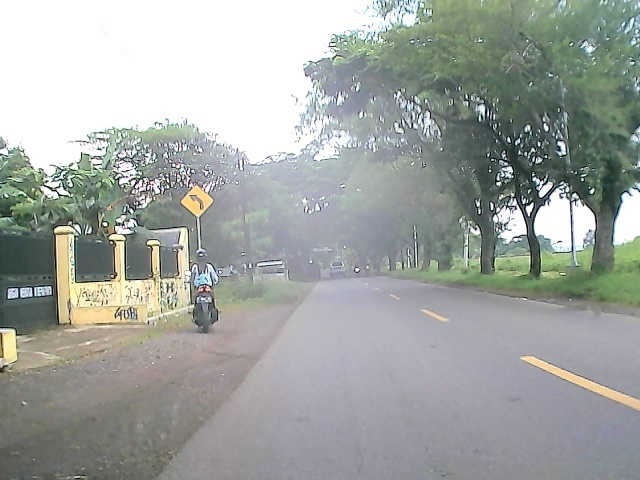Tikungan ke kiri: (177, 184, 215, 220)
